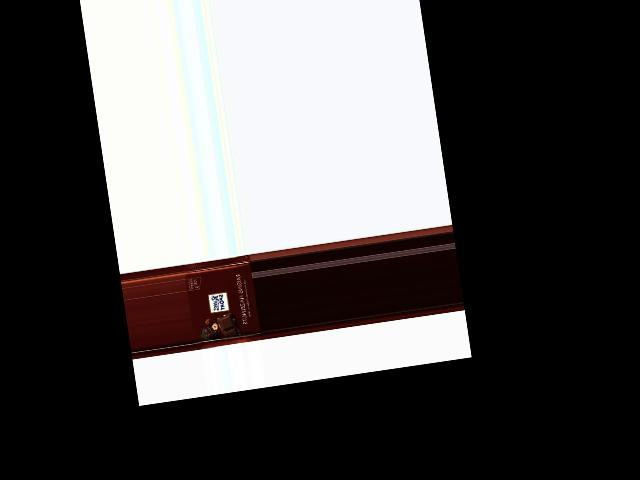chocolate: (183, 254, 262, 351)
